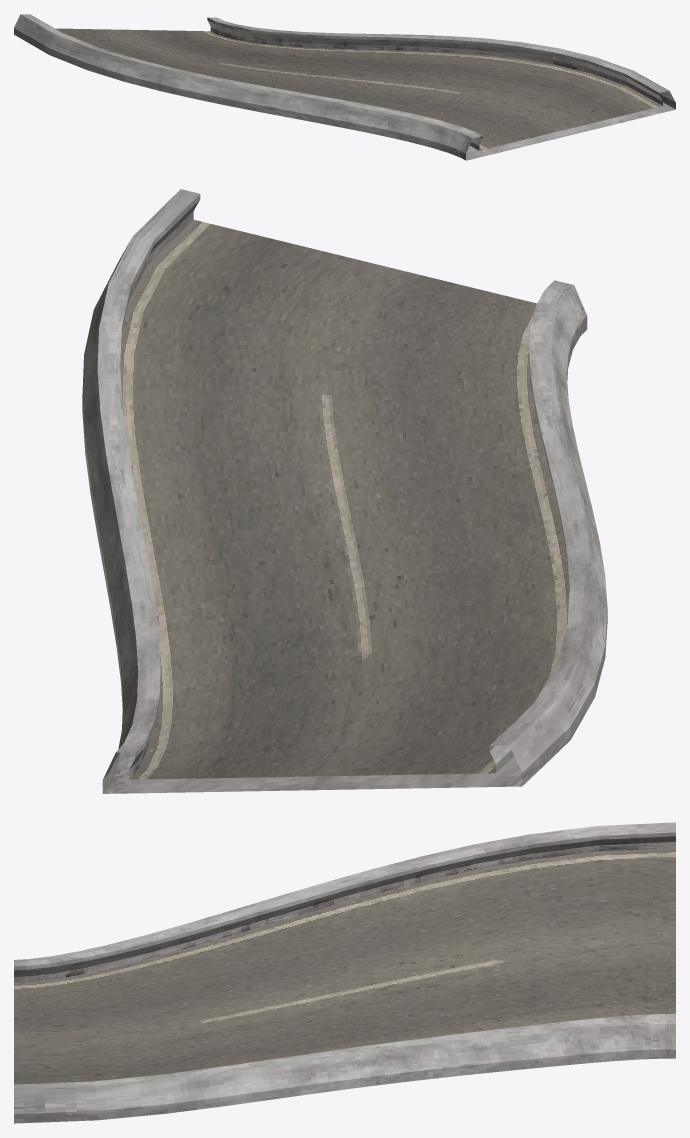
Rendered from chicane-left1x2.glb.
The picture shows the model from 3 angles, top to bottom: view 1: azimuth 30°, elevation 25°; view 2: azimuth 150°, elevation 25°; view 3: azimuth 270°, elevation 25°; orthographic projection. The views are drawn at different scales.
Parts seen in each view (by area): view 1: road-Chicane-Flat-HalfBankedRight-Down1-Left1-Size2; view 2: road-Chicane-Flat-HalfBankedRight-Down1-Left1-Size2; view 3: road-Chicane-Flat-HalfBankedRight-Down1-Left1-Size2.
Part boxes in pixels (box(x1,y1,x2,y2)): road-Chicane-Flat-HalfBankedRight-Down1-Left1-Size2: box(14, 14, 675, 160); road-Chicane-Flat-HalfBankedRight-Down1-Left1-Size2: box(82, 189, 607, 793); road-Chicane-Flat-HalfBankedRight-Down1-Left1-Size2: box(14, 822, 675, 1123).
Size of the model in its own units: 2 by 0.3438 by 2.
Materials: 2 (2 with a texture image).
